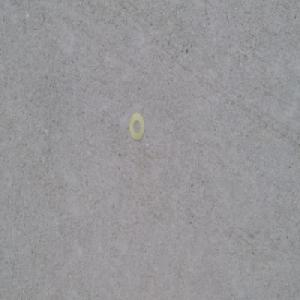Washer: (129, 112, 145, 141)
